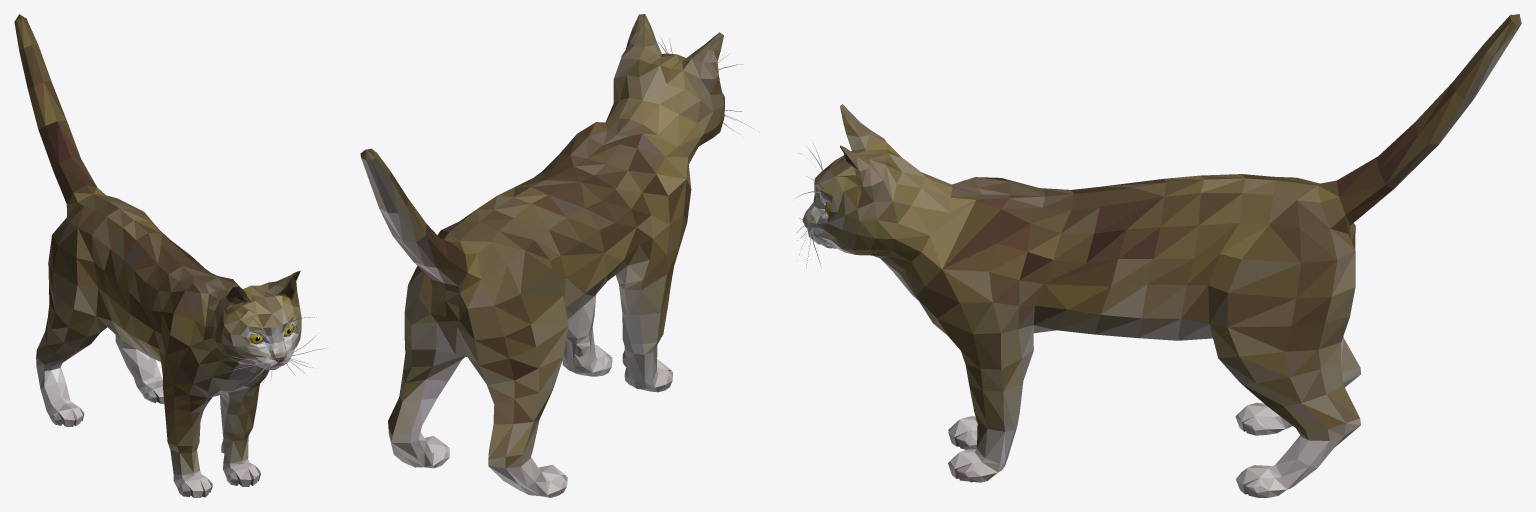
Rendered from gato.obj.
3 renders of one model, left to right at view 1: azimuth 30°, elevation 25°; view 2: azimuth 150°, elevation 25°; view 3: azimuth 270°, elevation 25°, orthographic. The views are drawn at different scales.
Parts seen in each view (by area): view 1: cat_01_color05, Object003; view 2: cat_01_color05; view 3: cat_01_color05.
Boxes of the visible parts, x1,y1,x2,y2 form: cat_01_color05: (14,14,301,497); Object003: (224,310,329,384); cat_01_color05: (360,14,724,497); cat_01_color05: (802,14,1521,497).
Size of the model in its own units: 0.4005 by 1.02 by 1.51.
2 materials, 1 textured.
